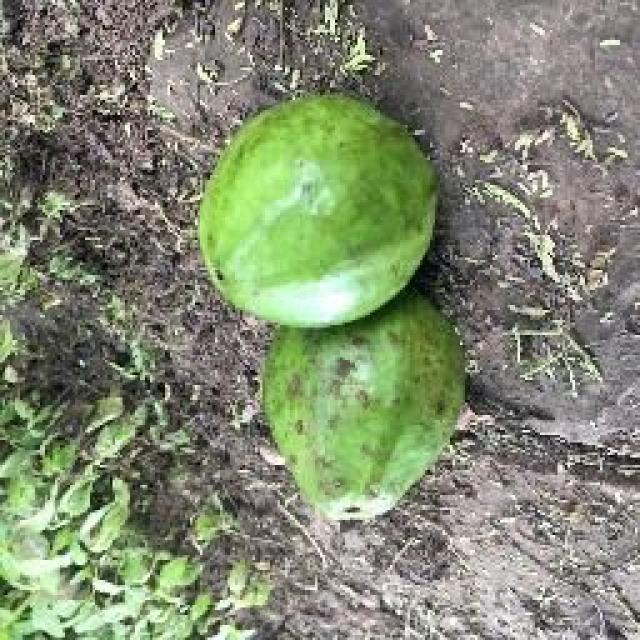Good_Guava: (198, 95, 440, 330), (260, 285, 465, 525)
